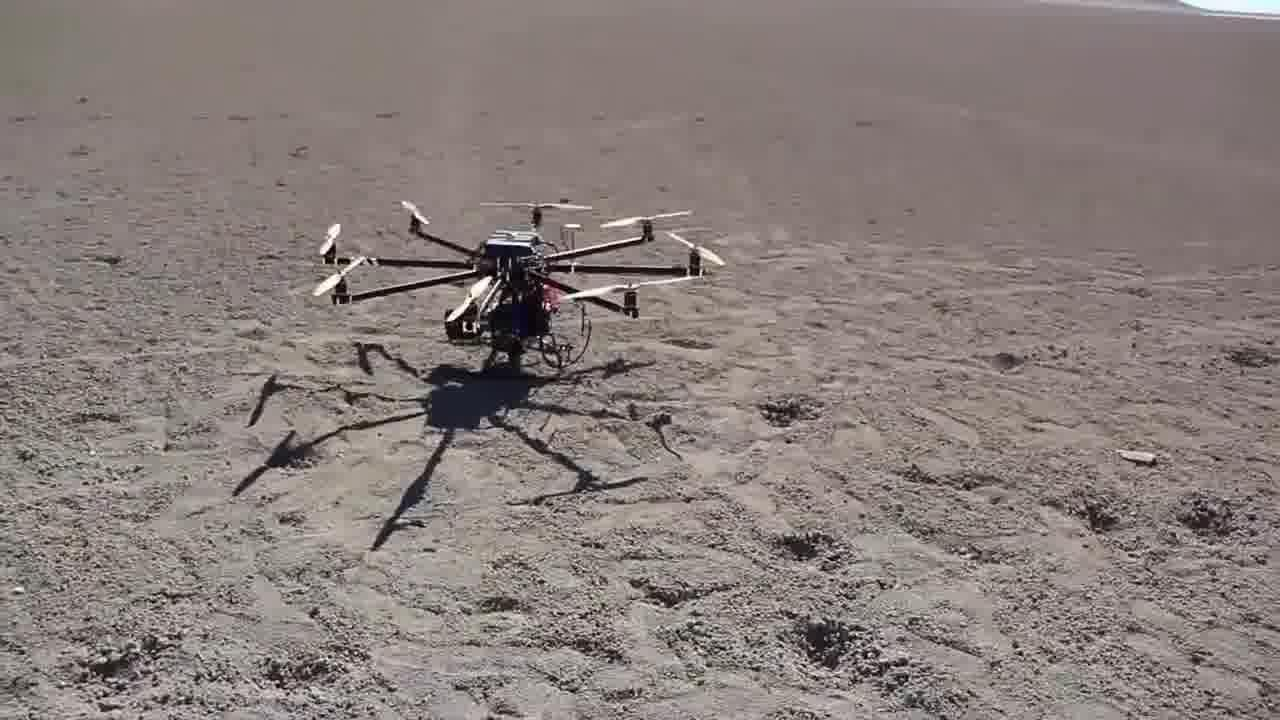drone: (294, 181, 718, 368)
